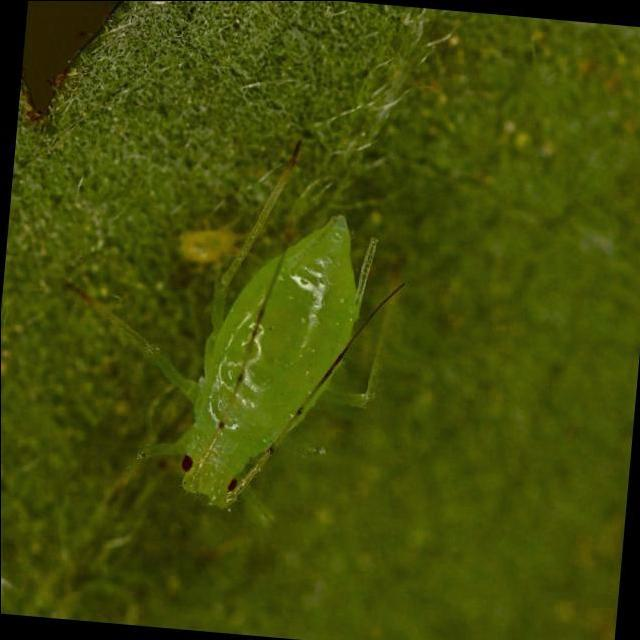aphid: (98, 138, 437, 562)
